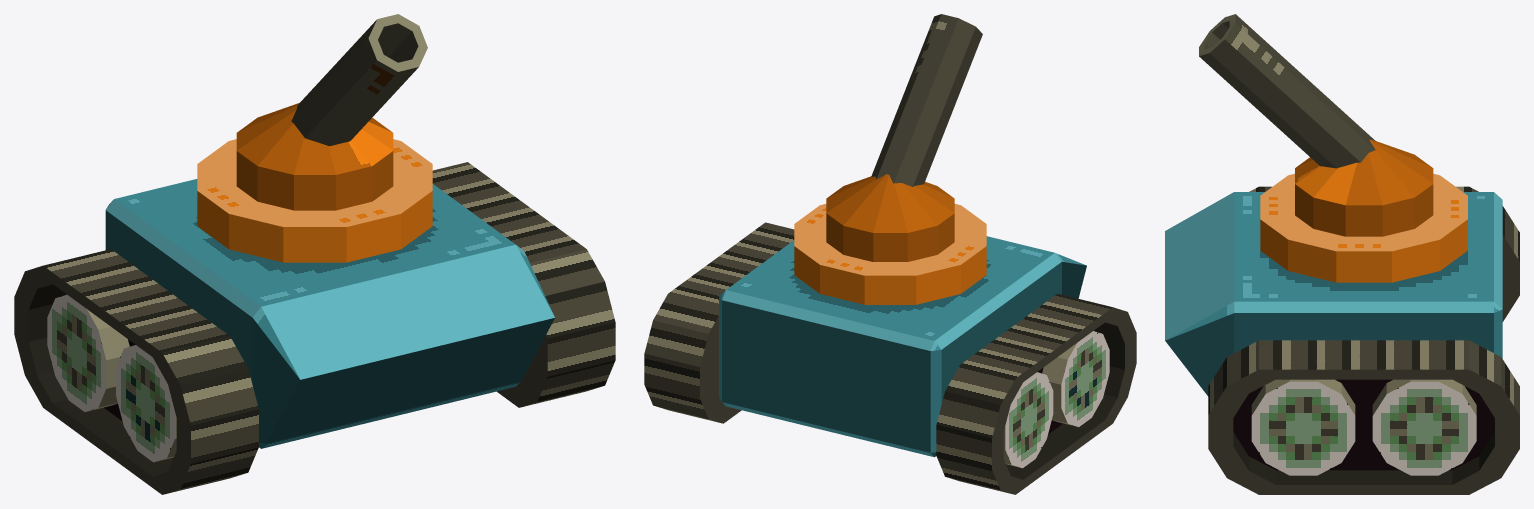
Rendered from robot2.gltf.
3 views of the same model, side by side, from view 1: azimuth 30°, elevation 25°; view 2: azimuth 150°, elevation 25°; view 3: azimuth 270°, elevation 25° (orthographic). The views are drawn at different scales.
Visible parts, largest first — view 1: tank_body, tread_r, turret, tread_l, barrel, wheel_b_r, wheel_f_r; view 2: tank_body, turret, tread_r, tread_l, barrel, wheel_f_r, wheel_b_r; view 3: tank_body, tread_l, turret, barrel, wheel_b_l, wheel_f_l, tread_r.
Part boxes in pixels (box(x1,y1,x2,y2)): tank_body: box(105, 179, 554, 448); tread_r: box(14, 249, 258, 494); turret: box(197, 103, 432, 262); tread_l: box(432, 162, 615, 407); barrel: box(291, 14, 427, 146); wheel_b_r: box(47, 294, 129, 411); wheel_f_r: box(116, 345, 176, 462); tank_body: box(719, 236, 1086, 457); turret: box(794, 174, 986, 304); tread_r: box(936, 293, 1136, 494); tread_l: box(644, 222, 794, 423); barrel: box(871, 14, 982, 186); wheel_f_r: box(1042, 331, 1109, 426); wheel_b_r: box(1003, 372, 1053, 468); tank_body: box(1165, 192, 1502, 396); tread_l: box(1208, 340, 1519, 494); turret: box(1260, 139, 1467, 282); barrel: box(1199, 14, 1375, 168); wheel_b_l: box(1372, 379, 1476, 475); wheel_f_l: box(1251, 379, 1355, 475); tread_r: box(1249, 186, 1519, 321).
Bounding box in the file's own units: 3.12 × 3.07 × 2.56.
Materials: 1 (1 with a texture image).
